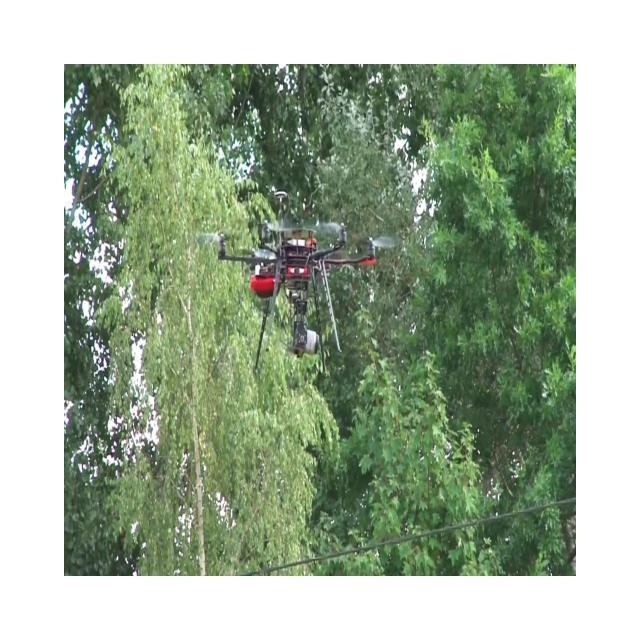drone: (192, 187, 398, 375)
